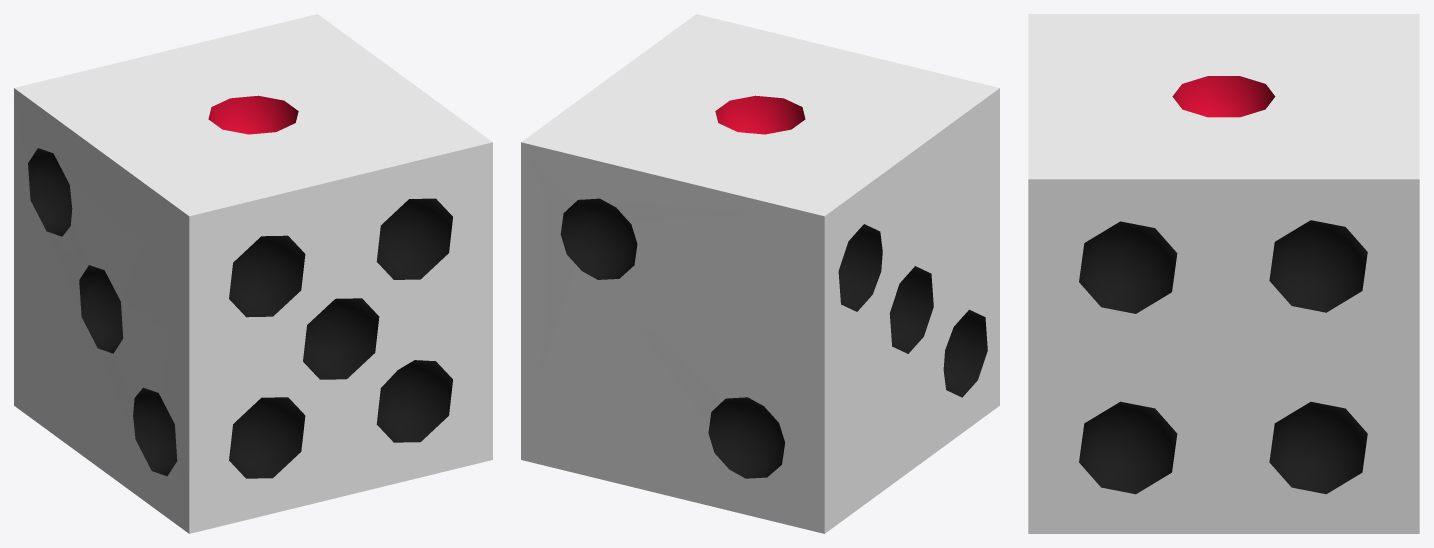
Rendered from dice.obj.
The picture shows the model from 3 angles, left to right: view 1: azimuth 30°, elevation 25°; view 2: azimuth 150°, elevation 25°; view 3: azimuth 270°, elevation 25°; orthographic projection. The views are drawn at different scales.
Parts seen in each view (by area): view 1: 立方体.001; view 2: 立方体.001; view 3: 立方体.001.
Boxes of the visible parts, x1,y1,x2,y2 form: 立方体.001: (14, 14, 492, 533); 立方体.001: (521, 14, 999, 533); 立方体.001: (1028, 14, 1419, 533).
Bounding box in the file's own units: 1.98 × 1.98 × 1.98.
Materials: 1 (1 with a texture image).
